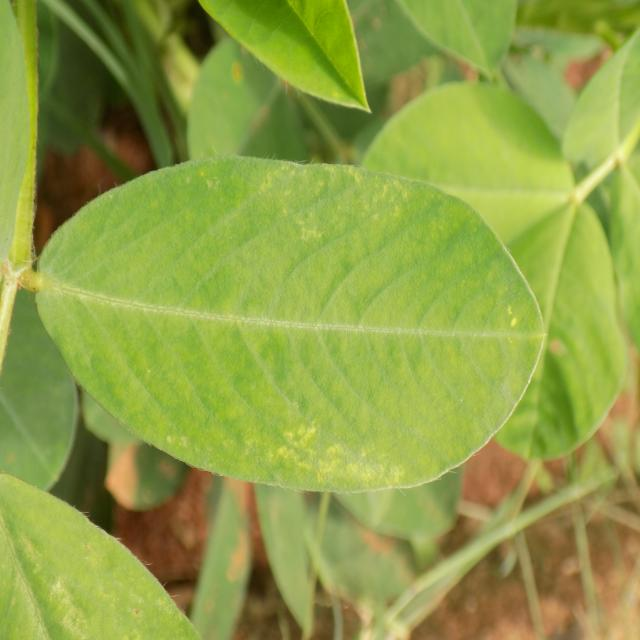Ground nut_healthy: (32, 155, 550, 492)
